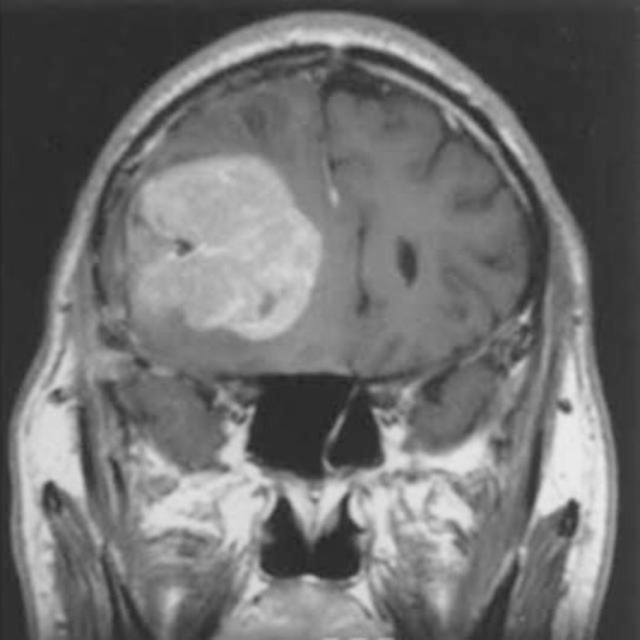meningioma tumor: (122, 145, 337, 358)
